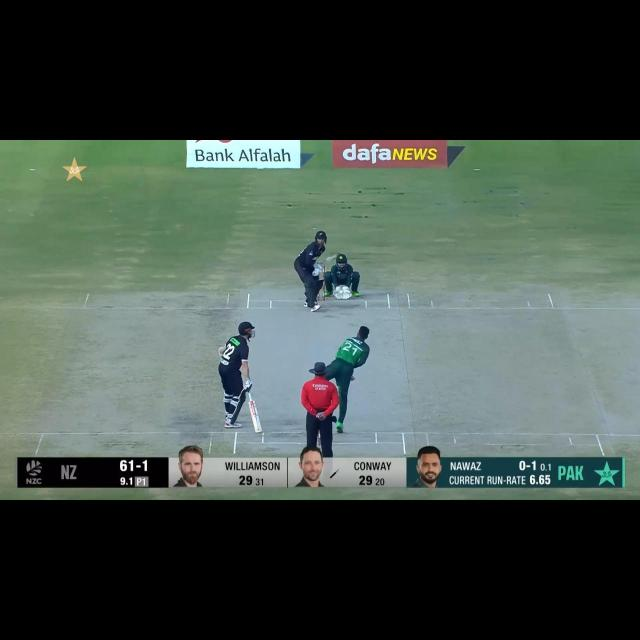bat: (249, 401, 264, 434), (317, 253, 338, 269)
toe: (252, 424, 264, 435), (330, 254, 337, 261)
